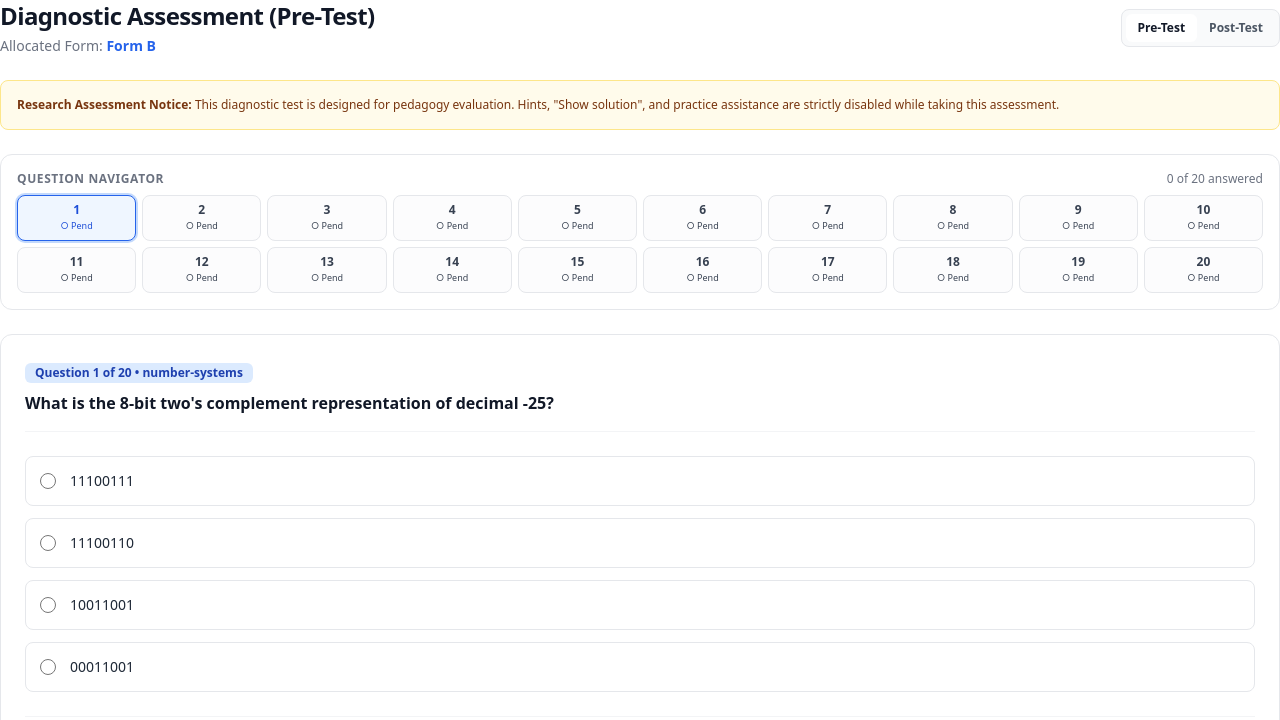
Scenario: PrePostTestPage Component › submits assessment and displays neutral completion view without score unless requested
This screenshot has width=1280, height=720.
Click the radio button labelled "11100111" at (48, 481), box x1=40 y1=473 x2=56 y2=489
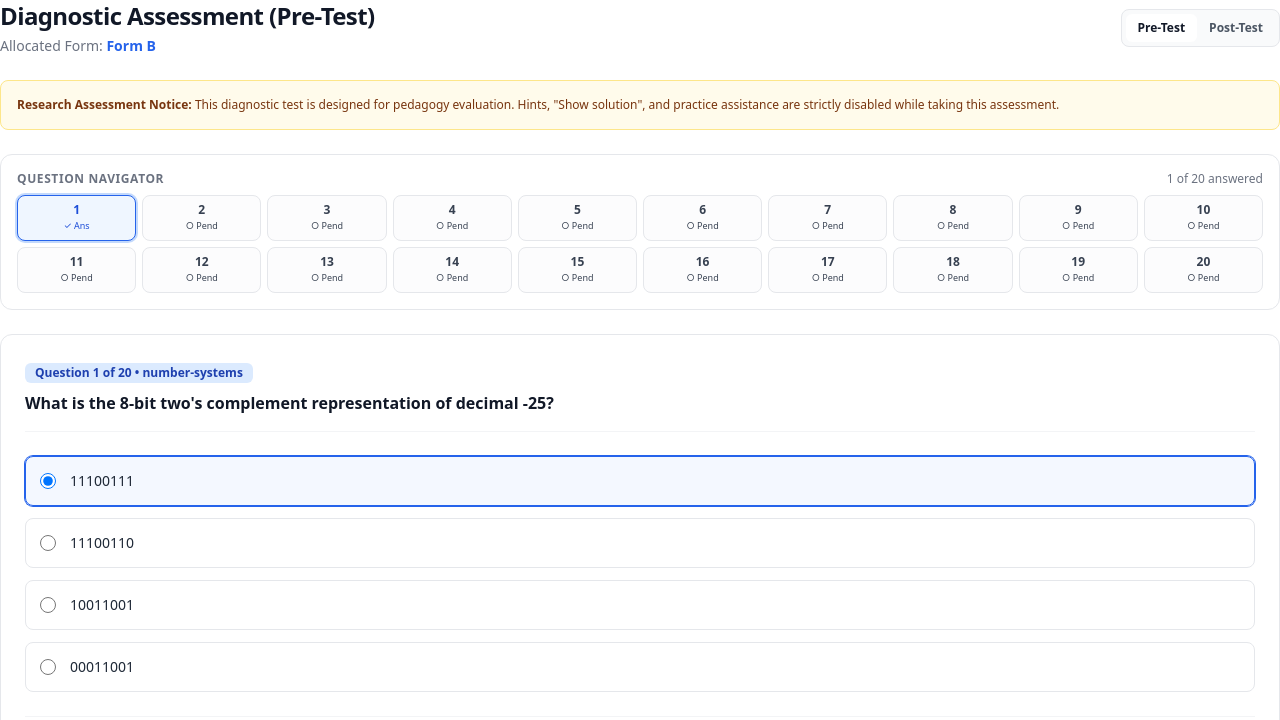
Note: Navigate to question 20 using the navigator
Click the button with aria-label "Question 20:" at (1203, 270), box x1=1144 y1=247 x2=1263 y2=293
(page scrolled)
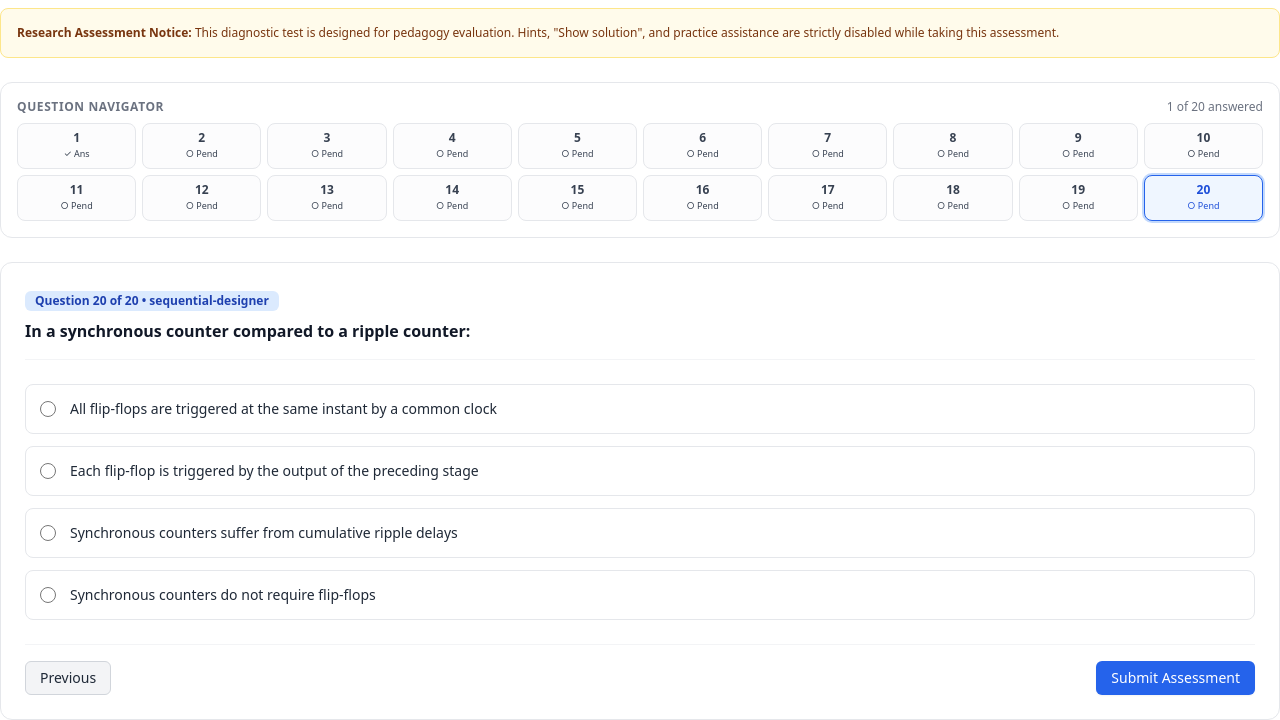
Click the button "Submit Assessment" at (1176, 678), box x1=1096 y1=661 x2=1255 y2=695
(page scrolled)
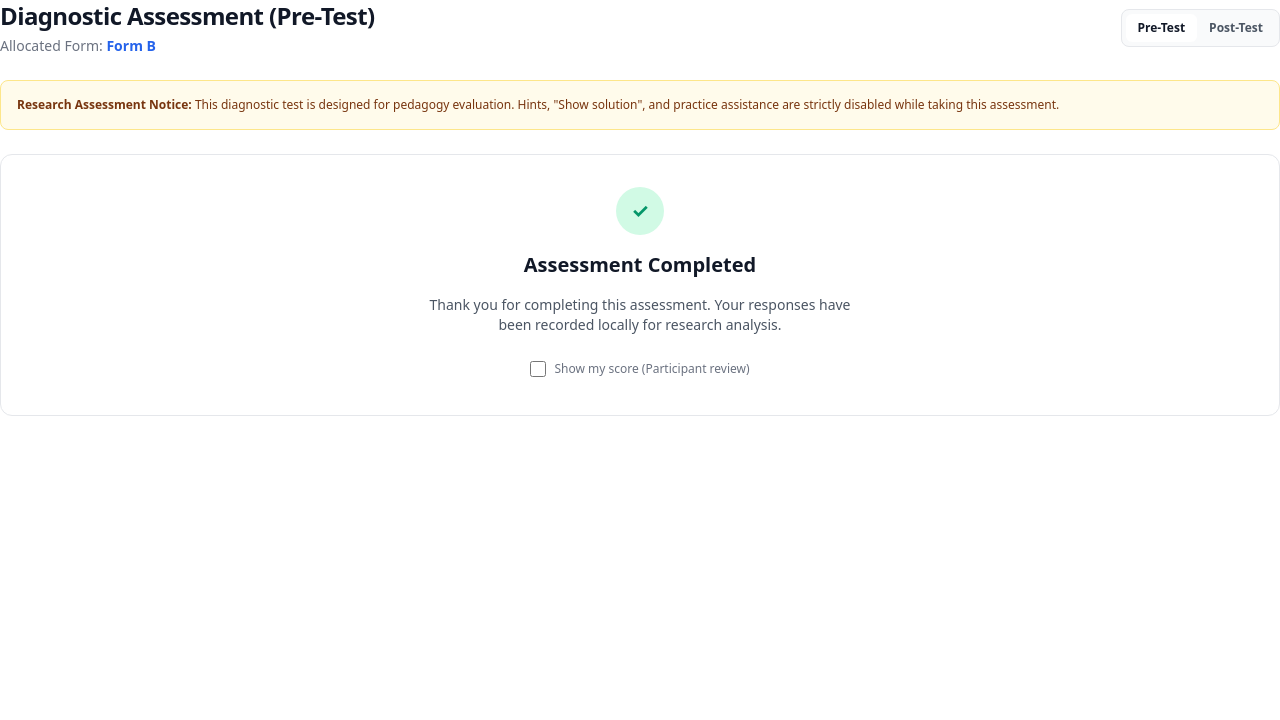
expect the heading "Assessment Completed" is shown: met, box x1=524 y1=251 x2=756 y2=278
expect the text "Thank you for completing this assessment" is shown: met, box x1=430 y1=295 x2=850 y2=334
